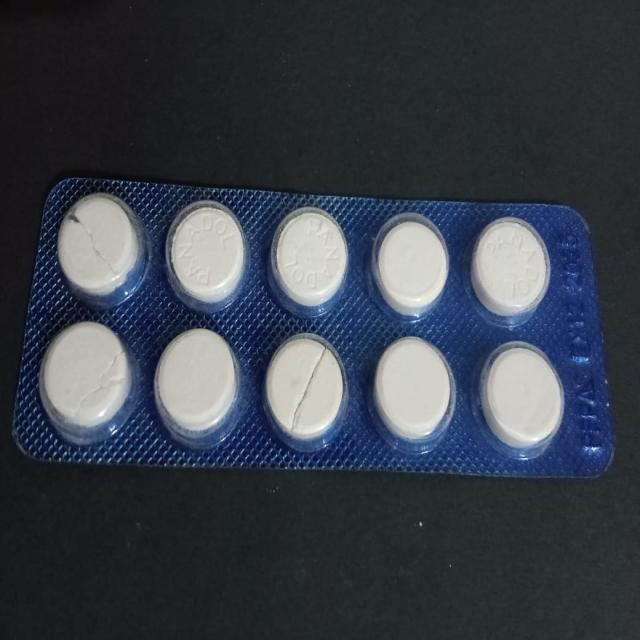defect: (36, 317, 139, 446), (55, 190, 152, 310), (262, 330, 352, 454)
